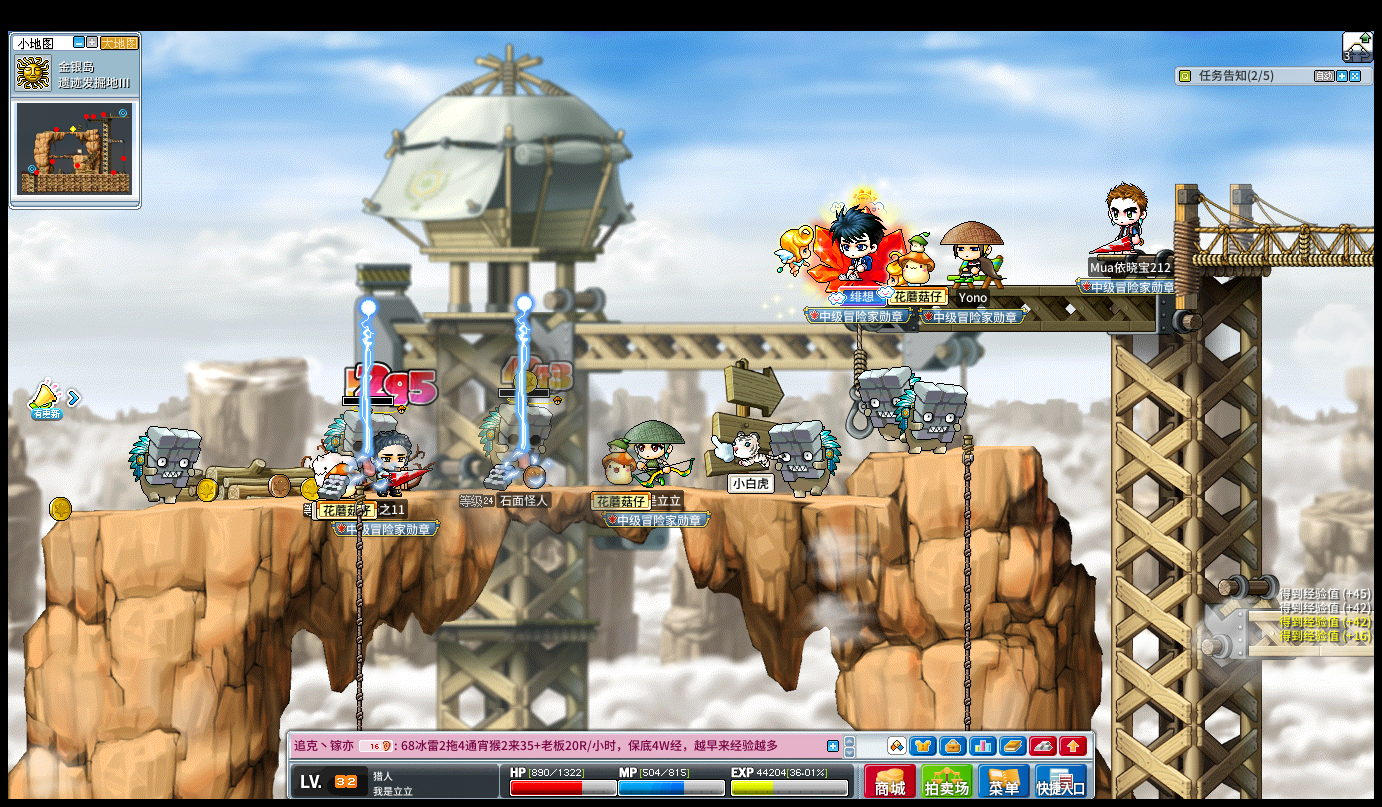floor: (52, 482, 751, 513), (85, 484, 928, 508), (56, 483, 985, 498), (1167, 218, 1376, 235), (866, 443, 1041, 460)
monster: (127, 425, 202, 506), (477, 400, 547, 486), (770, 420, 841, 498), (896, 380, 967, 455), (852, 366, 908, 451)
rope: (958, 433, 974, 707), (351, 483, 364, 789), (352, 486, 364, 707)
